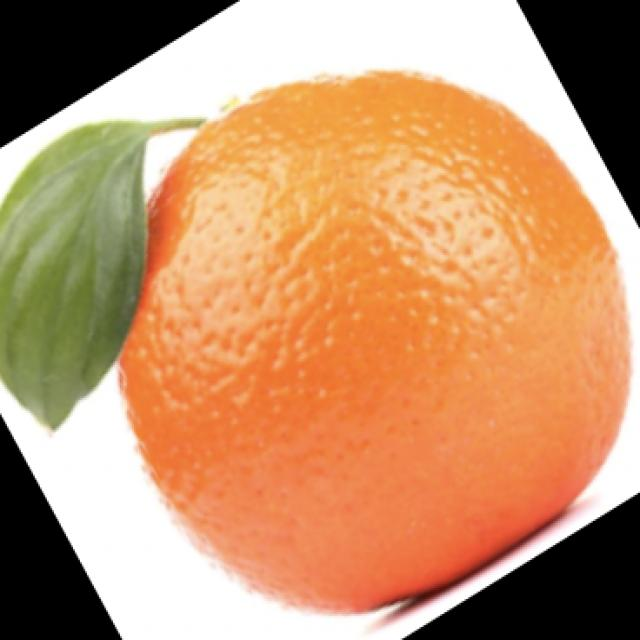fresh: (0, 74, 638, 635)
